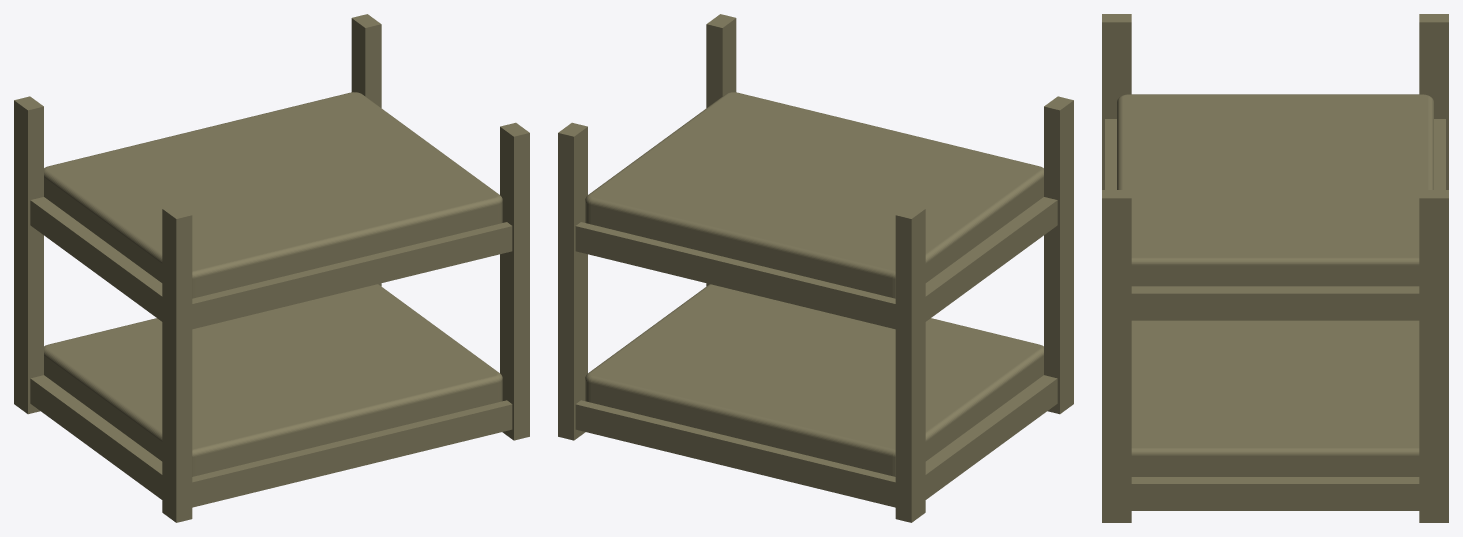
The picture shows the model from 3 angles, left to right: view 1: azimuth 30°, elevation 25°; view 2: azimuth 150°, elevation 25°; view 3: azimuth 270°, elevation 25°; orthographic projection. The views are drawn at different scales.
Visible parts, largest first — view 1: node0; view 2: node0; view 3: node0.
Boxes of the visible parts, left/top/right/bottom form: node0: left=14, top=14, right=529, bottom=522; node0: left=558, top=14, right=1073, bottom=522; node0: left=1102, top=14, right=1448, bottom=522.
Size of the model in its own units: 2.2 by 1.75 by 1.81.
